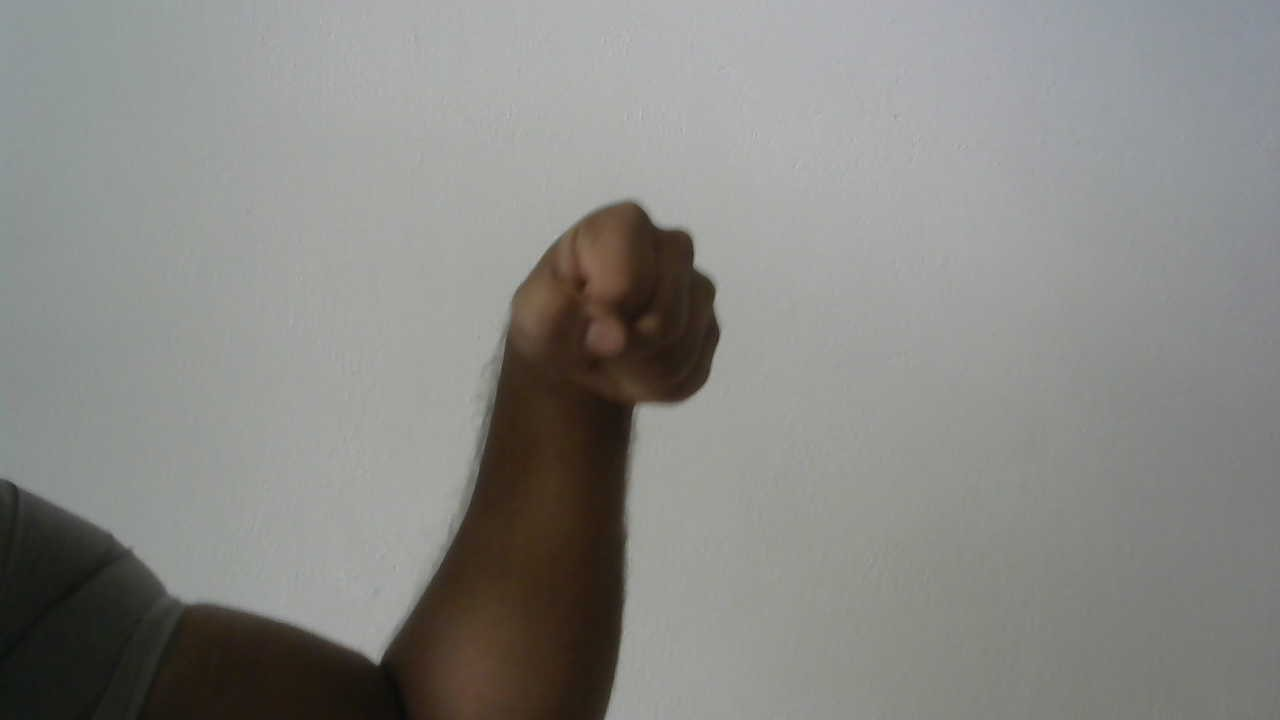yes: (471, 184, 746, 435)
